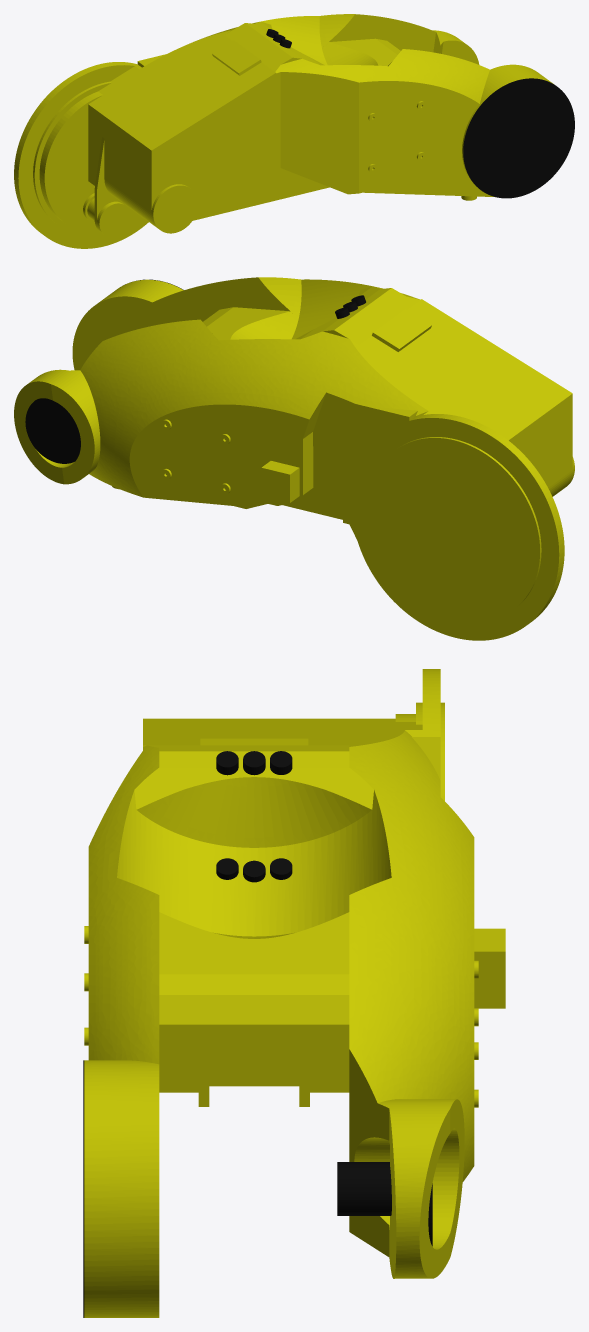
3 renders of one model, top to bottom at view 1: azimuth 30°, elevation 25°; view 2: azimuth 150°, elevation 25°; view 3: azimuth 270°, elevation 25°, orthographic. The views are drawn at different scales.
Parts seen in each view (by area): view 1: node; view 2: node; view 3: node.
Boxes of the visible parts, box(x1,y1,x2,y2) form: node: box(14, 14, 574, 248); node: box(14, 277, 574, 640); node: box(83, 669, 505, 1317).
Bounding box in the file's own units: 2427 × 1035 × 941.
